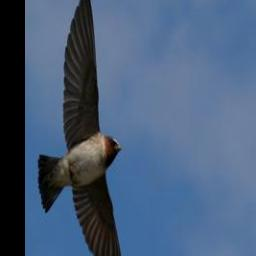Swallow: (37, 0, 125, 256)
